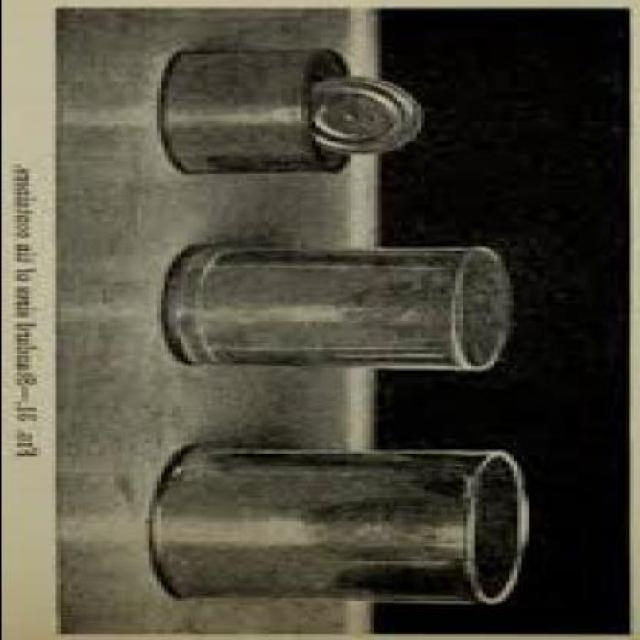METAL: (151, 448, 535, 608), (159, 248, 516, 374), (163, 48, 431, 175)
